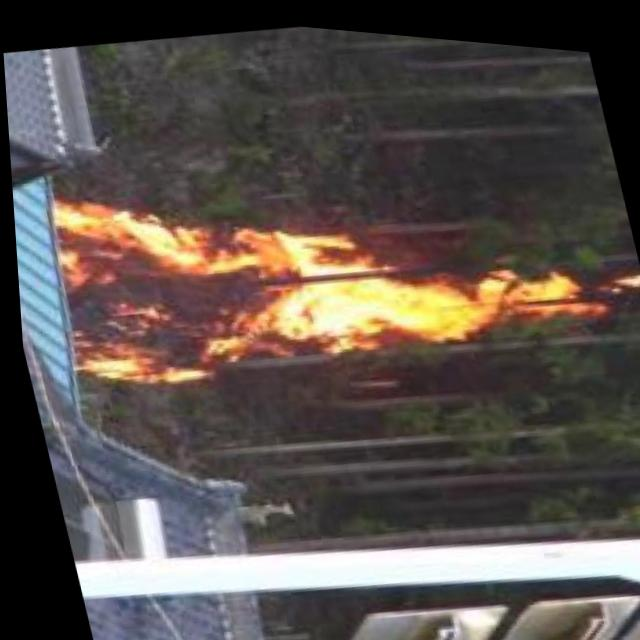Fire: (34, 112, 594, 423)
